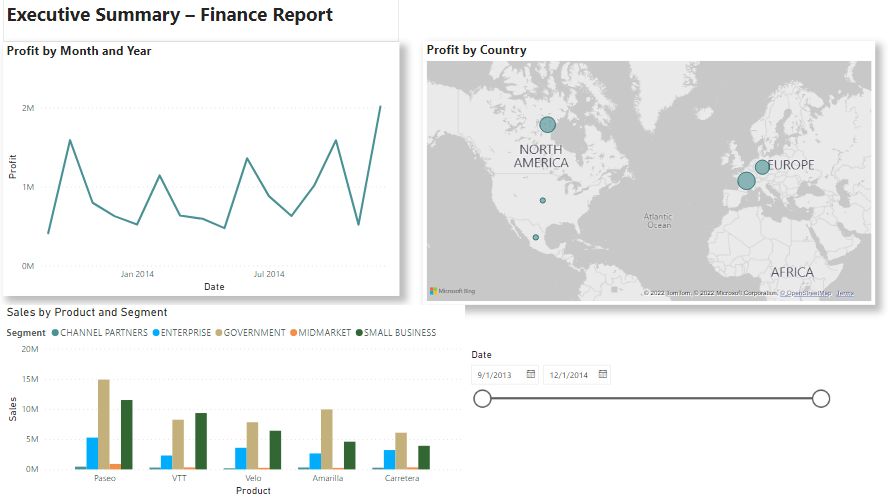

The dashboard page shown, as its layout file describes it:
{"tool":"powerbi","page":{"name":"Page 1","canvas":[1280,720],"ordinal":0},"visuals":[{"type":"textbox","box":[10.1,0,561.6,63.4],"z":0},{"type":"lineChart","title":"Profit by Month and Year","fields":{"Category":["Calendar.Date"],"Y":["Sum(financials.Profit)"]},"box":[10.1,63.4,561.6,360],"z":1000},{"type":"map","fields":{"Category":["financials.Country"],"Size":["Sum(financials.Profit)"]},"box":[605.6,63,640.7,374.1],"z":2000},{"type":"clusteredColumnChart","fields":{"Y":["Sum(financials. Sales)"],"Category":["financials.Product"],"Series":["financials.Segment"]},"box":[10.1,436.3,655.2,276.5],"z":3000},{"type":"slicer","fields":{"Values":["financials.Date"]},"box":[661.1,492.6,529.6,159.3],"z":4000}]}

Visuals, with their boxes in screenshot pixels (x1, y1, x2, y2), scaled from the page's 1280x720 canvas onto the 893x501 screenshot:
textbox: bbox(7, 0, 399, 44)
"Profit by Month and Year" lineChart: bbox(7, 44, 399, 295)
map - financials.Country x Sum(financials.Profit): bbox(423, 44, 869, 304)
clusteredColumnChart - Sum(financials. Sales) x financials.Product: bbox(7, 304, 464, 496)
slicer - financials.Date: bbox(461, 343, 831, 454)
